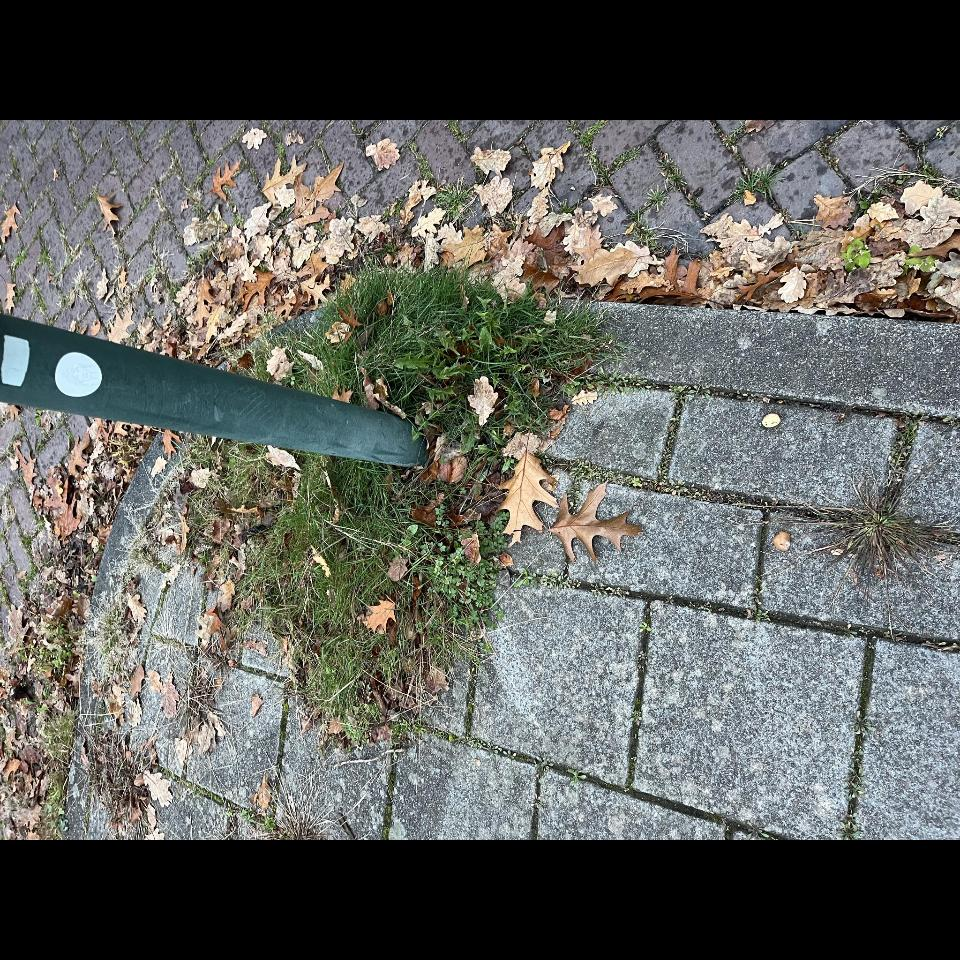weed: (192, 268, 612, 741), (798, 482, 960, 586), (240, 802, 328, 840), (579, 120, 613, 184), (172, 247, 213, 293), (735, 165, 780, 198), (436, 179, 472, 220), (30, 283, 55, 323), (412, 142, 434, 180), (647, 188, 667, 210), (278, 784, 295, 801), (13, 248, 26, 270), (255, 776, 269, 796)
